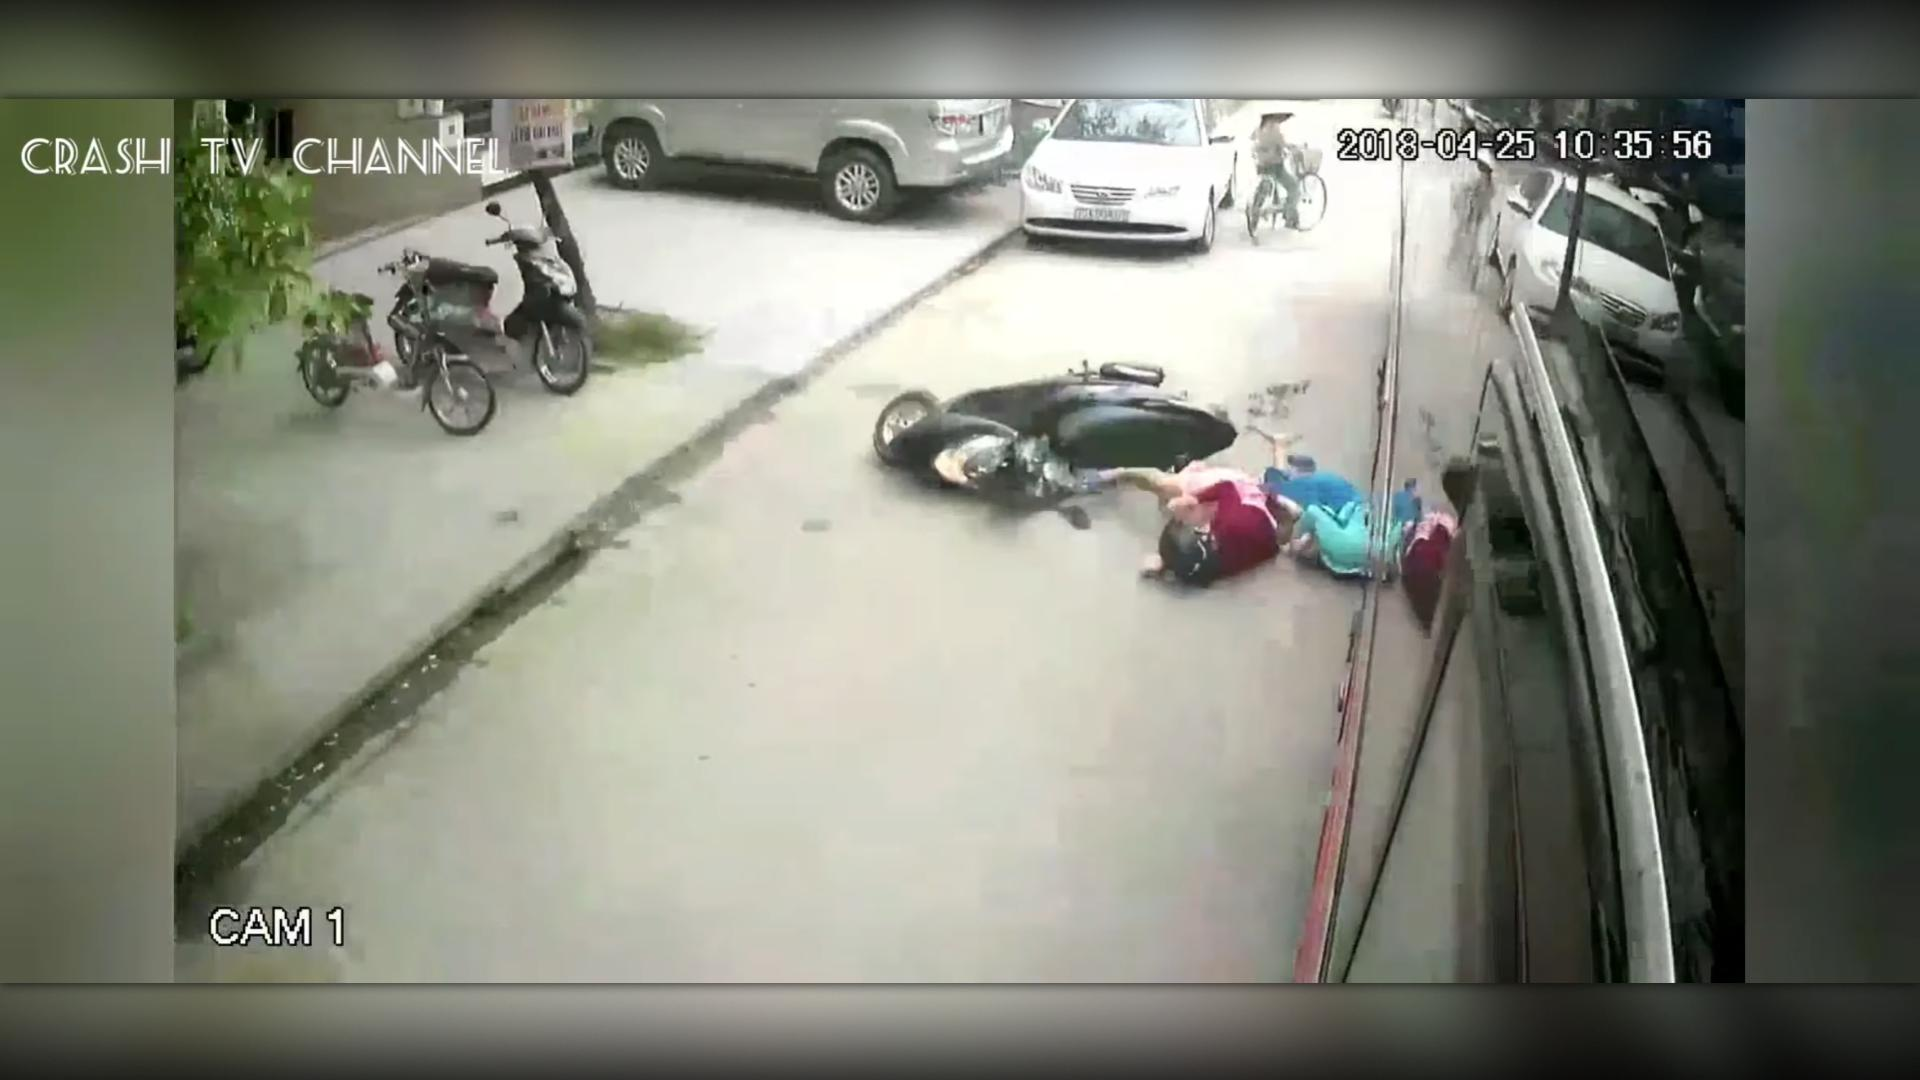accident: (833, 313, 1389, 593), (852, 348, 1398, 622)
